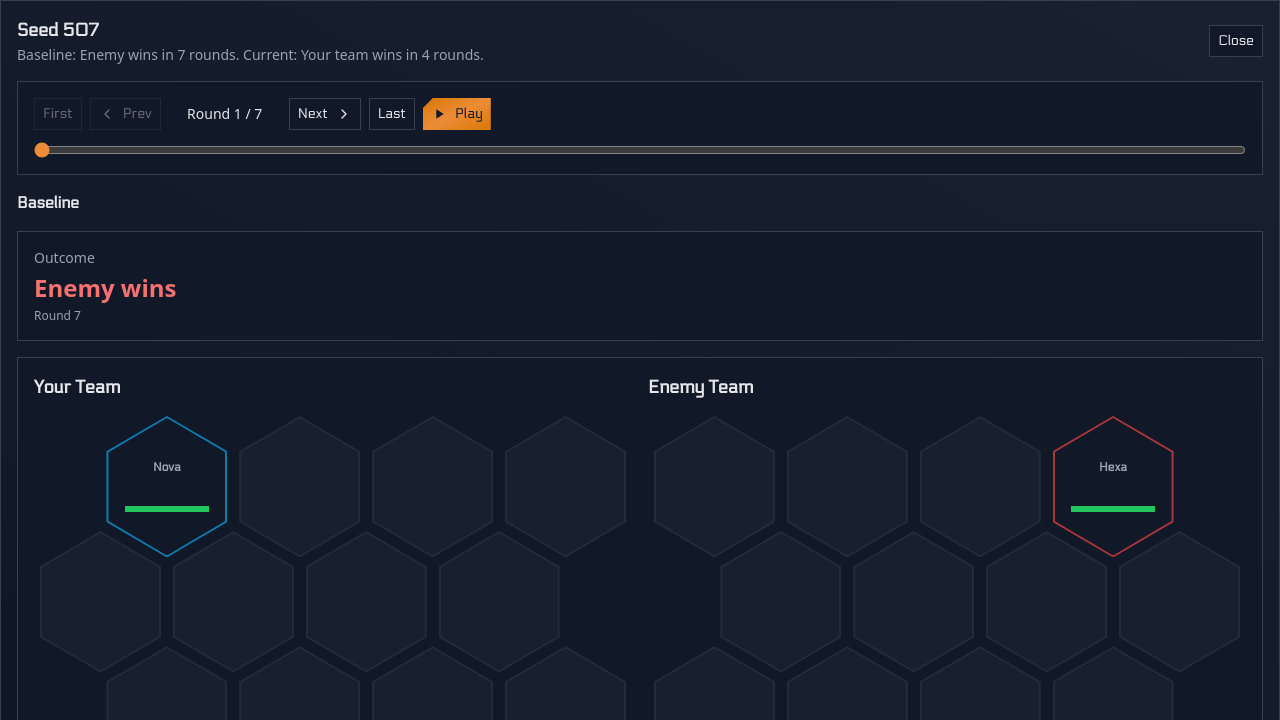
Test: DivergencePlayback › holds the shorter fight at its last round when current is the shorter one
This screenshot has width=1280, height=720.
Click the button with aria-label "Next round" at (325, 114), box [289, 98, 361, 130]
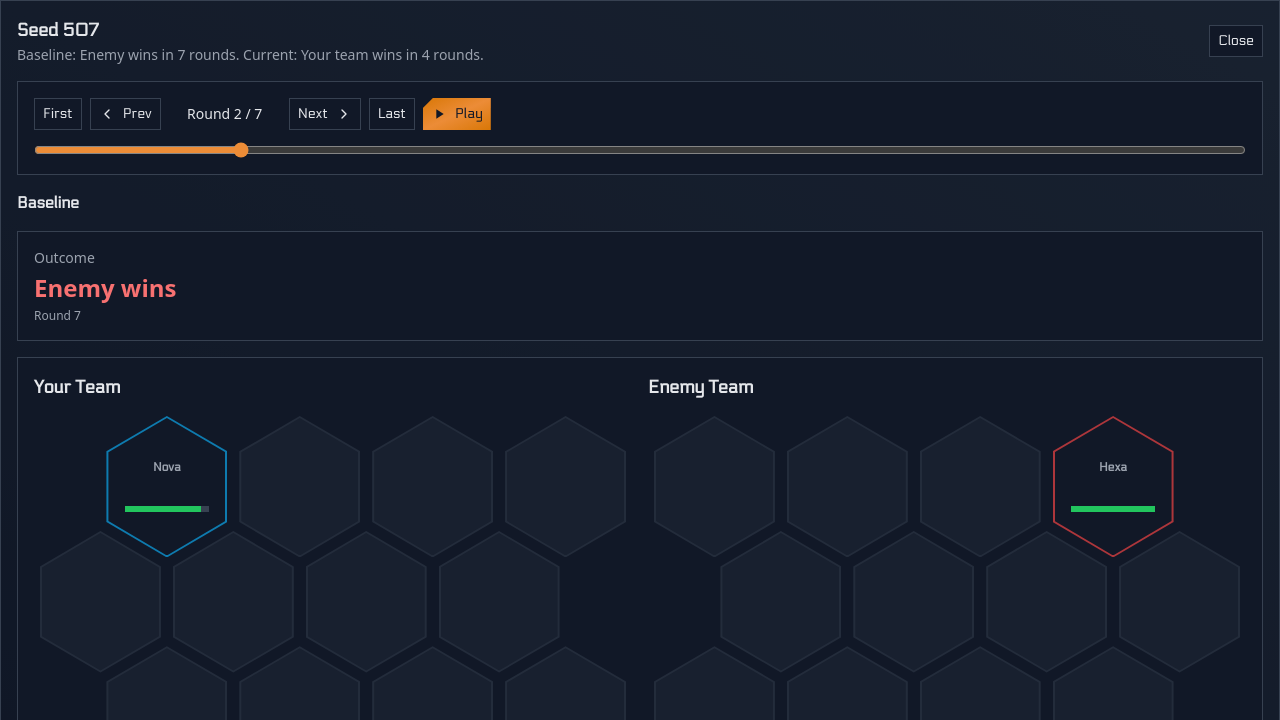
Click the button with aria-label "Next round" at (325, 114), box [289, 98, 361, 130]
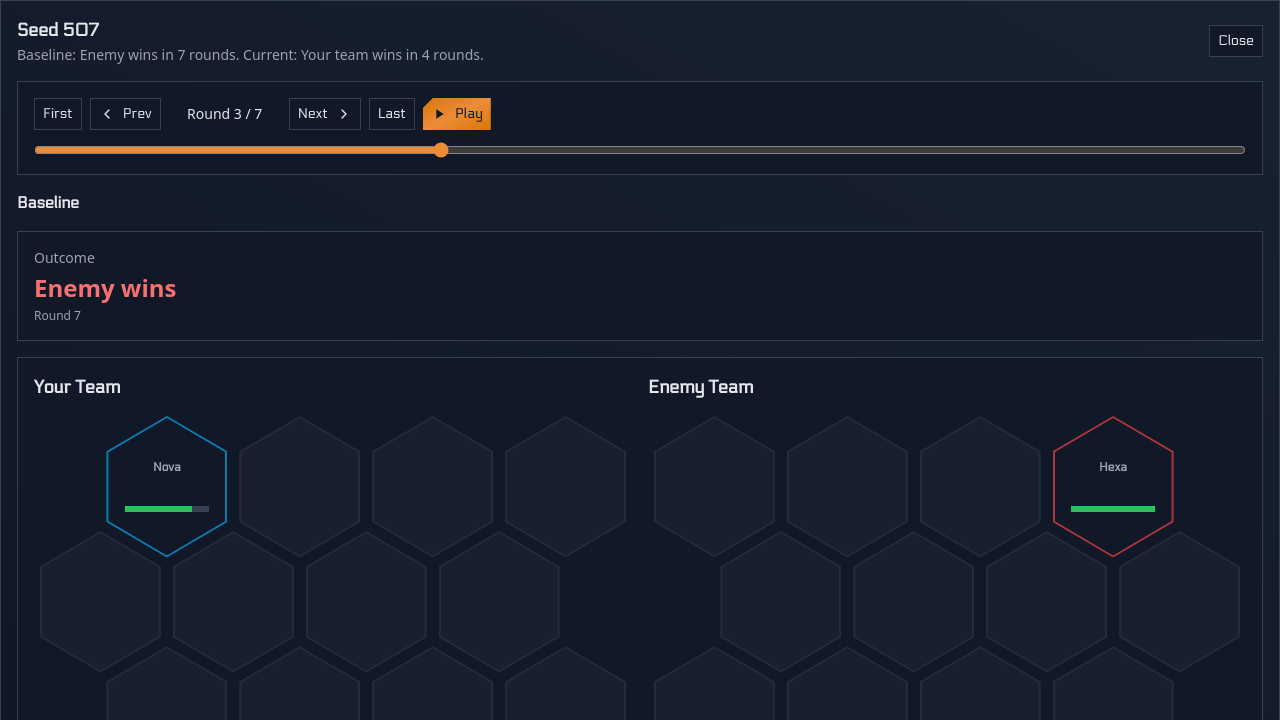
Click the button with aria-label "Next round" at (325, 114), box [289, 98, 361, 130]
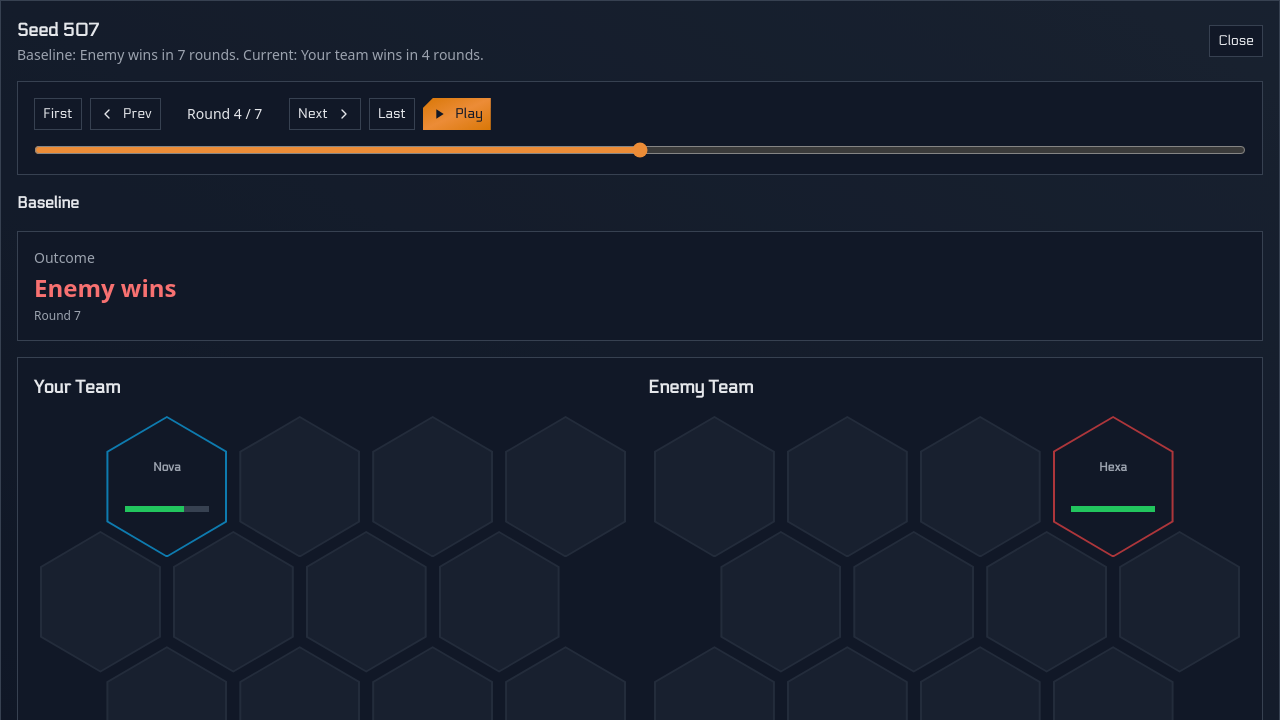
Click the button with aria-label "Next round" at (325, 114), box [289, 98, 361, 130]
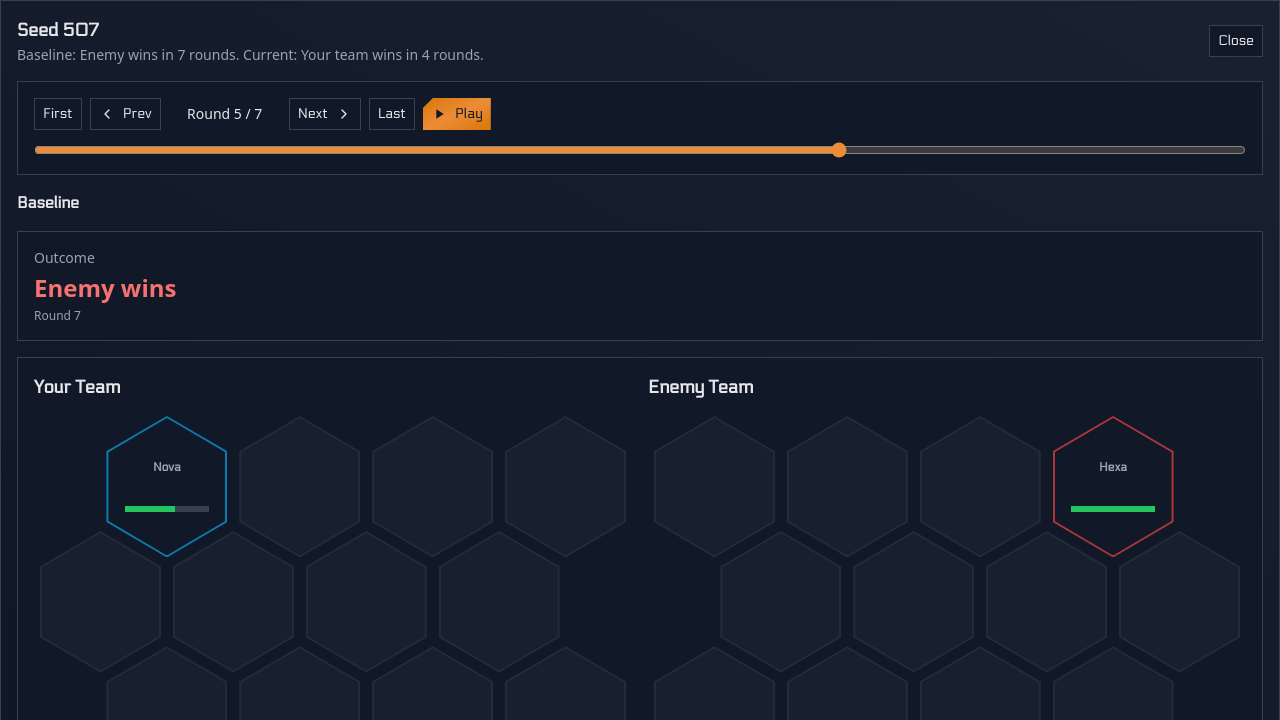
Click the button with aria-label "Next round" at (325, 114), box [289, 98, 361, 130]
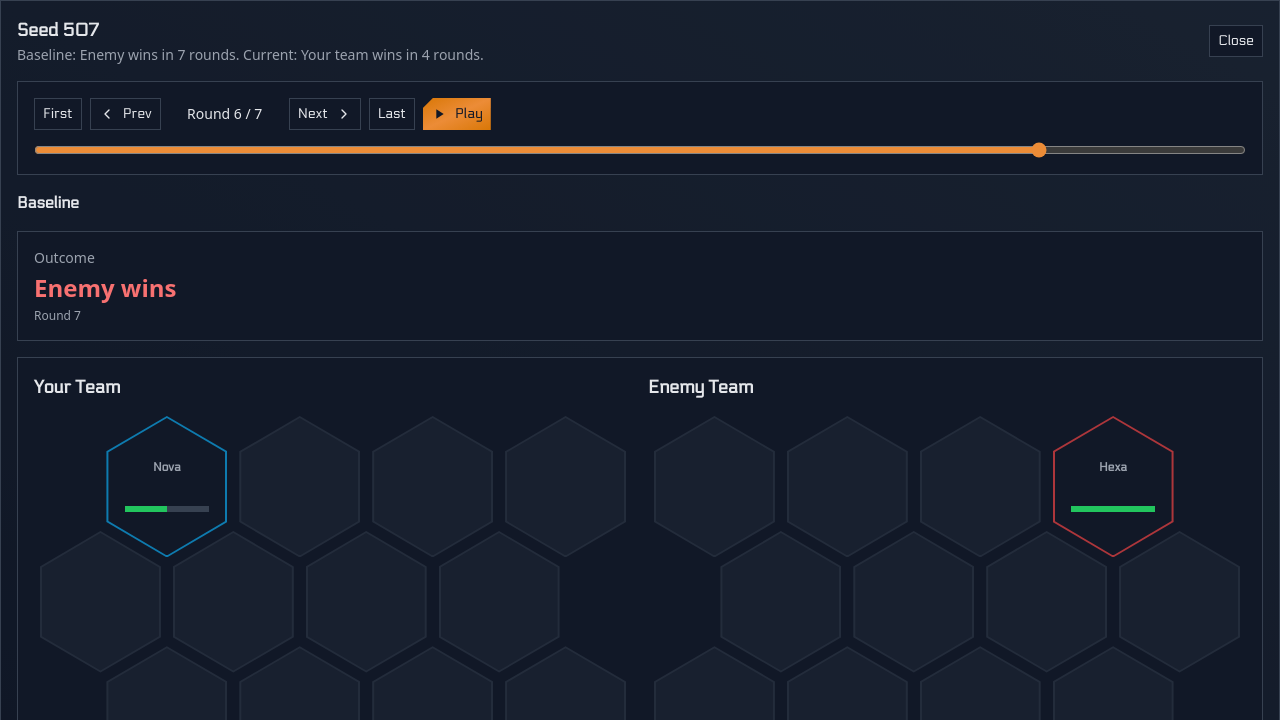
Result: the text "Round 6 / 7" is shown at [187, 104, 262, 123]
Result: the button with aria-label "Nova at T1, 50% HP" is shown at [106, 416, 227, 558]
